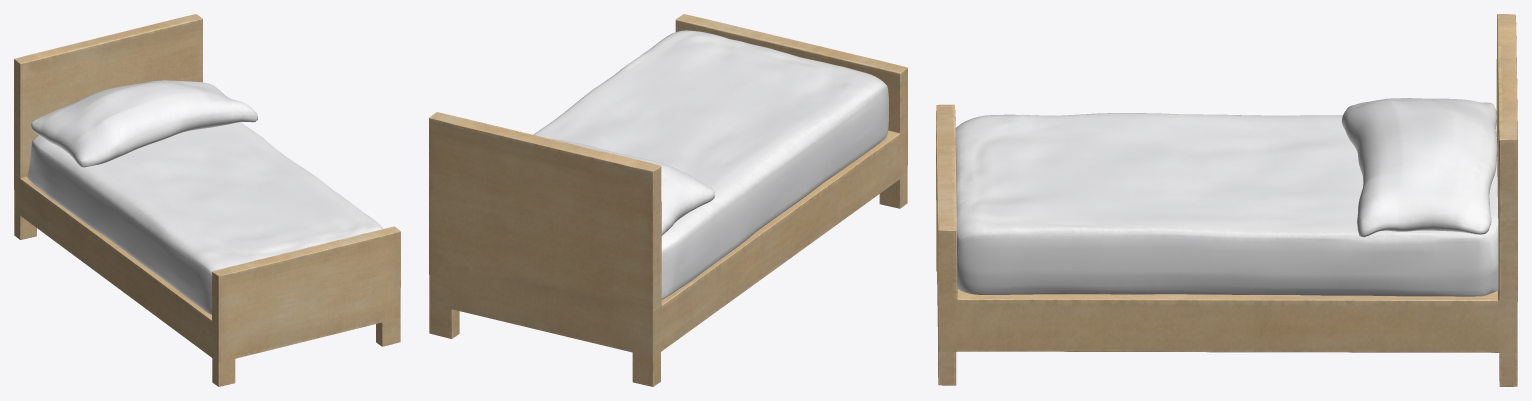
File: BED_2.glb
3 views of the same model, side by side, from view 1: azimuth 30°, elevation 25°; view 2: azimuth 150°, elevation 25°; view 3: azimuth 270°, elevation 25° (orthographic). The views are drawn at different scales.
Visible parts, largest first — view 1: polySurface665_Bed_0; view 2: polySurface665_Bed_0; view 3: polySurface665_Bed_0.
Boxes of the visible parts, x1,y1,x2,y2 form: polySurface665_Bed_0: (14,14,400,386); polySurface665_Bed_0: (429,14,907,386); polySurface665_Bed_0: (936,14,1517,386).
Size of the model in its own units: 0.909 by 0.8025 by 1.7.
1 material, 1 textured.
